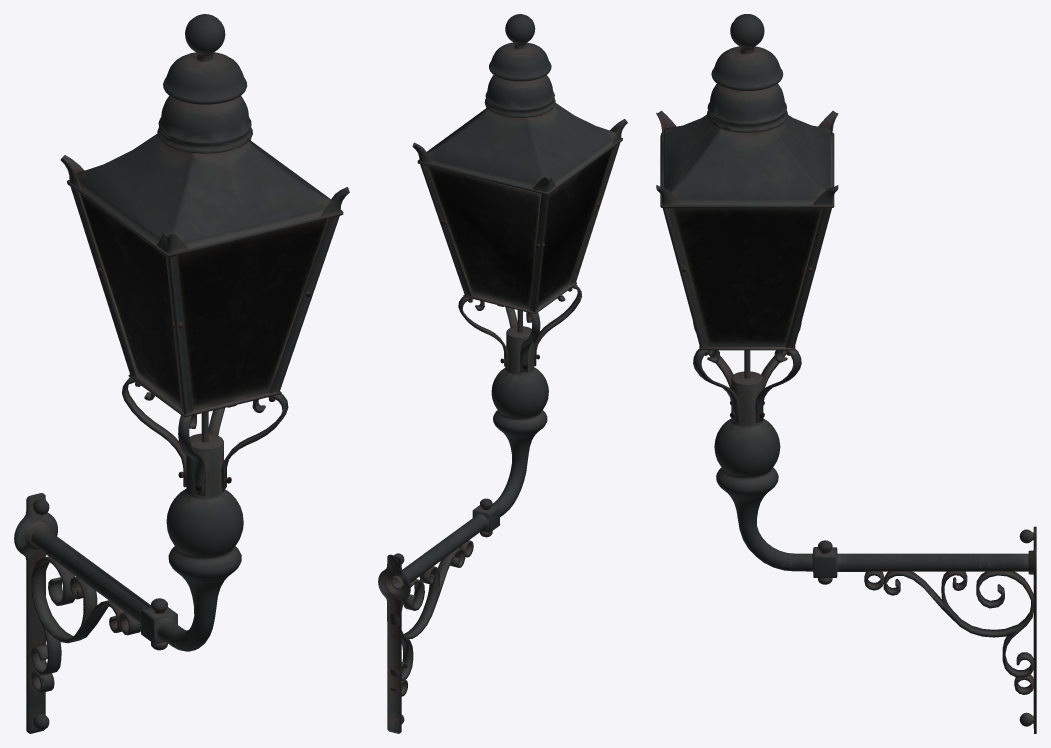
Rendered from street_lamp_wall.glb.
3 views of the same model, side by side, from view 1: azimuth 30°, elevation 25°; view 2: azimuth 150°, elevation 25°; view 3: azimuth 270°, elevation 25° (orthographic). The views are drawn at different scales.
Parts seen in each view (by area): view 1: street_lamp_02; view 2: street_lamp_02; view 3: street_lamp_02.
Boxes of the visible parts, <box> form: street_lamp_02: <box>14,14,349,733</box>; street_lamp_02: <box>378,14,627,733</box>; street_lamp_02: <box>656,14,1036,733</box>.
Bounding box in the file's own units: 0.3864 × 1.67 × 0.8068.
Materials: 2 (2 with a texture image).
